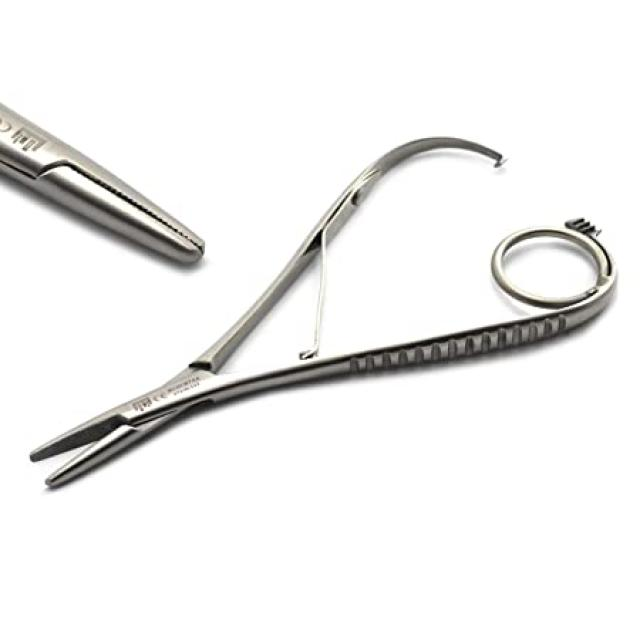B3: (17, 73, 633, 566)
